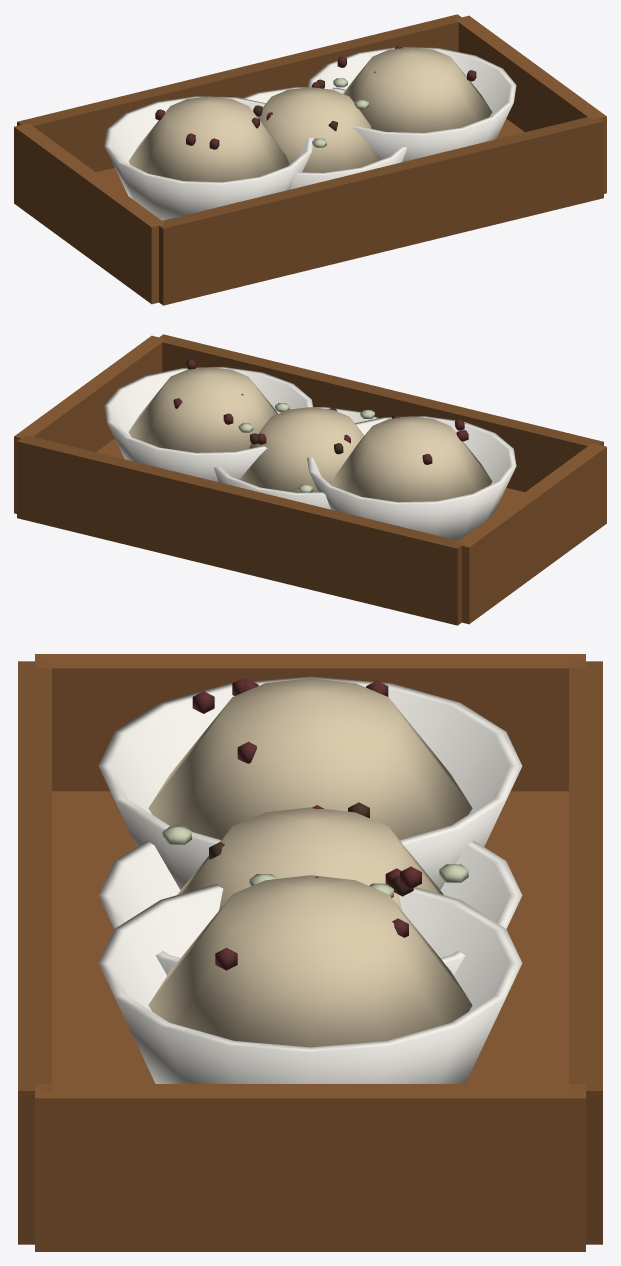
The model's file is Dish_MultigrainRice.fbx.
3 views of the same model, one above another, from view 1: azimuth 30°, elevation 25°; view 2: azimuth 150°, elevation 25°; view 3: azimuth 270°, elevation 25° (orthographic). The views are drawn at different scales.
Visible parts, largest first — view 1: Dish_MultigrainRice__Stack, Dish_MultigrainRice, Dish_MultigrainRice__Rotten; view 2: Dish_MultigrainRice__Stack, Dish_MultigrainRice, Dish_MultigrainRice__Rotten; view 3: Dish_MultigrainRice__Stack, Dish_MultigrainRice, Dish_MultigrainRice__Rotten.
Boxes of the visible parts, x1,y1,x2,y2 form: Dish_MultigrainRice__Stack: (14, 14, 606, 305); Dish_MultigrainRice: (242, 82, 407, 189); Dish_MultigrainRice__Rotten: (253, 78, 368, 147); Dish_MultigrainRice__Stack: (14, 334, 606, 625); Dish_MultigrainRice: (213, 406, 378, 509); Dish_MultigrainRice__Rotten: (238, 403, 374, 492); Dish_MultigrainRice__Stack: (18, 654, 602, 1251); Dish_MultigrainRice: (98, 805, 522, 975); Dish_MultigrainRice__Rotten: (162, 802, 468, 897).
Bounding box in the file's own units: 0.248 × 0.062 × 0.138.
